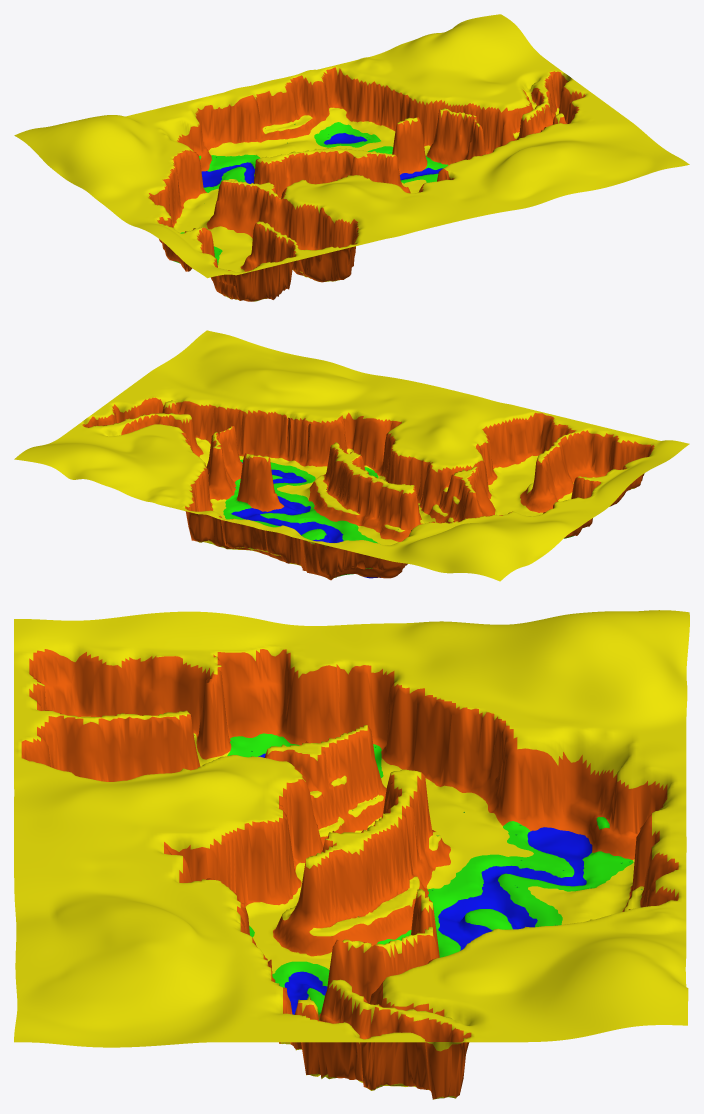
The model's file is matinho1.fbx.
The picture shows the model from 3 angles, top to bottom: view 1: azimuth 30°, elevation 25°; view 2: azimuth 150°, elevation 25°; view 3: azimuth 270°, elevation 25°; orthographic projection. The views are drawn at different scales.
Visible parts, largest first — view 1: matinho1; view 2: matinho1; view 3: matinho1.
Part boxes in pixels (bbox=[...]): matinho1: bbox=[14, 14, 689, 301]; matinho1: bbox=[14, 330, 689, 581]; matinho1: bbox=[14, 610, 689, 1099].
Size of the model in its own units: 454 by 71.85 by 309.
Materials: 5 (1 with a texture image).
